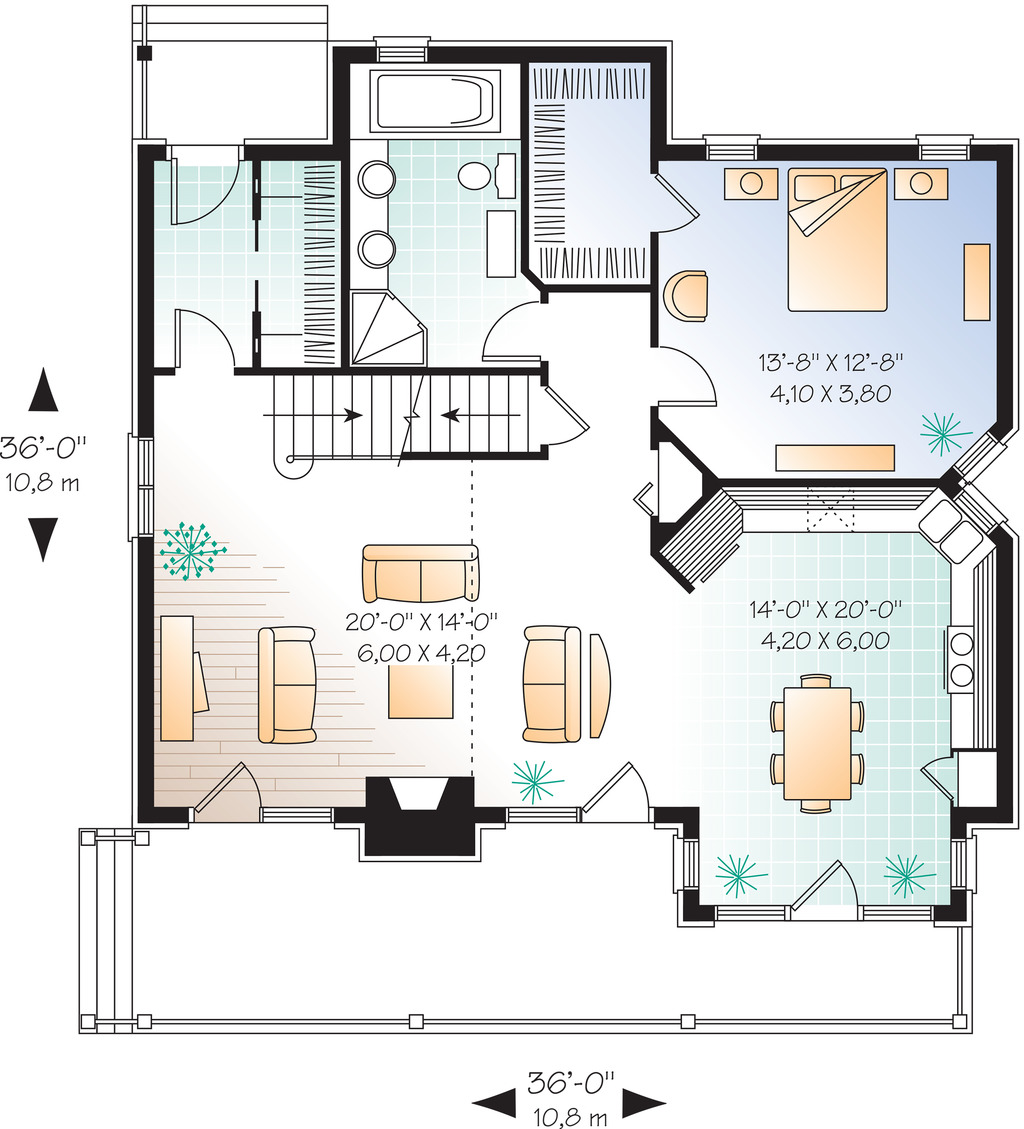bed: (784, 157, 902, 322)
dining_table: (760, 660, 879, 819)
door: (188, 757, 274, 834), (169, 145, 243, 227), (643, 341, 724, 415), (160, 303, 240, 377), (579, 753, 655, 826), (779, 860, 865, 924), (484, 296, 552, 367), (646, 169, 705, 245), (533, 384, 595, 445), (921, 753, 964, 805)
large_sink: (433, 146, 540, 202)
large_sofa: (343, 533, 500, 610), (245, 624, 338, 750), (519, 624, 598, 757)
small_sink: (340, 140, 415, 302)
stairs: (257, 371, 538, 472)
tub: (341, 59, 519, 143)
twin_sink: (915, 483, 1002, 577)
window: (115, 429, 174, 552), (698, 129, 771, 169), (376, 27, 431, 62), (912, 134, 977, 160)
